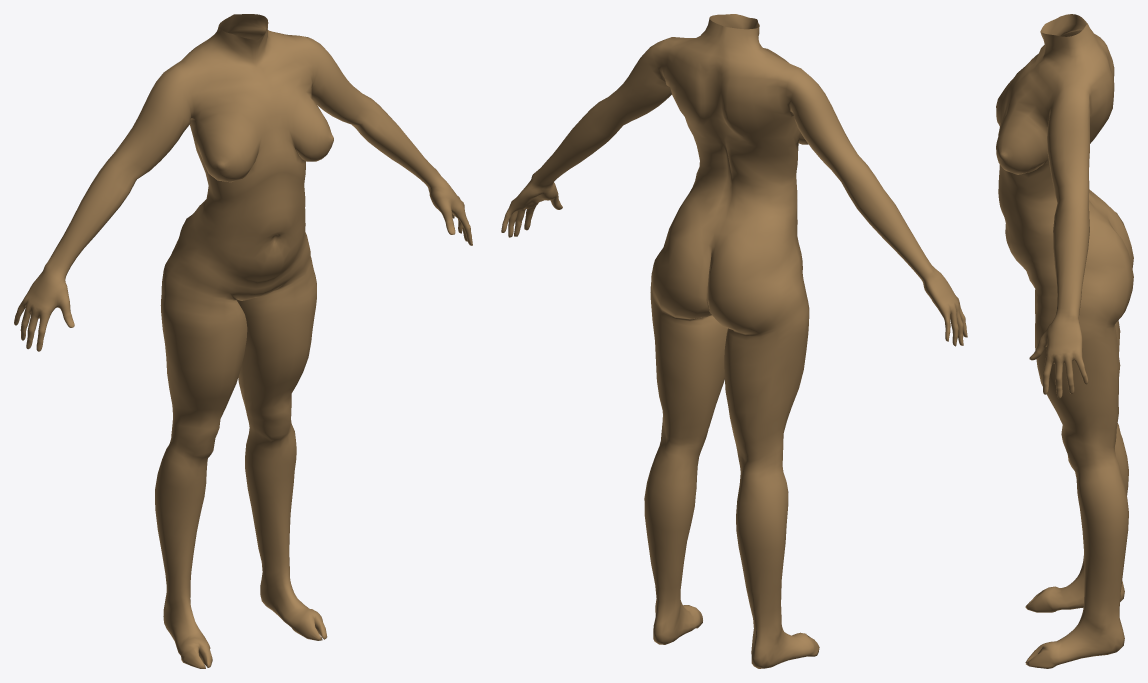
Rendered from bodytest.FBX.
3 views of the same model, side by side, from view 1: azimuth 30°, elevation 25°; view 2: azimuth 150°, elevation 25°; view 3: azimuth 270°, elevation 25° (orthographic). The views are drawn at different scales.
Parts seen in each view (by area): view 1: BodyMeshTest; view 2: BodyMeshTest; view 3: BodyMeshTest.
Part boxes in pixels (x1,y1,x2,y2): BodyMeshTest: (14, 14, 472, 668); BodyMeshTest: (501, 14, 967, 668); BodyMeshTest: (996, 14, 1133, 668).
Size of the model in its own units: 33.94 by 45.34 by 9.25.
